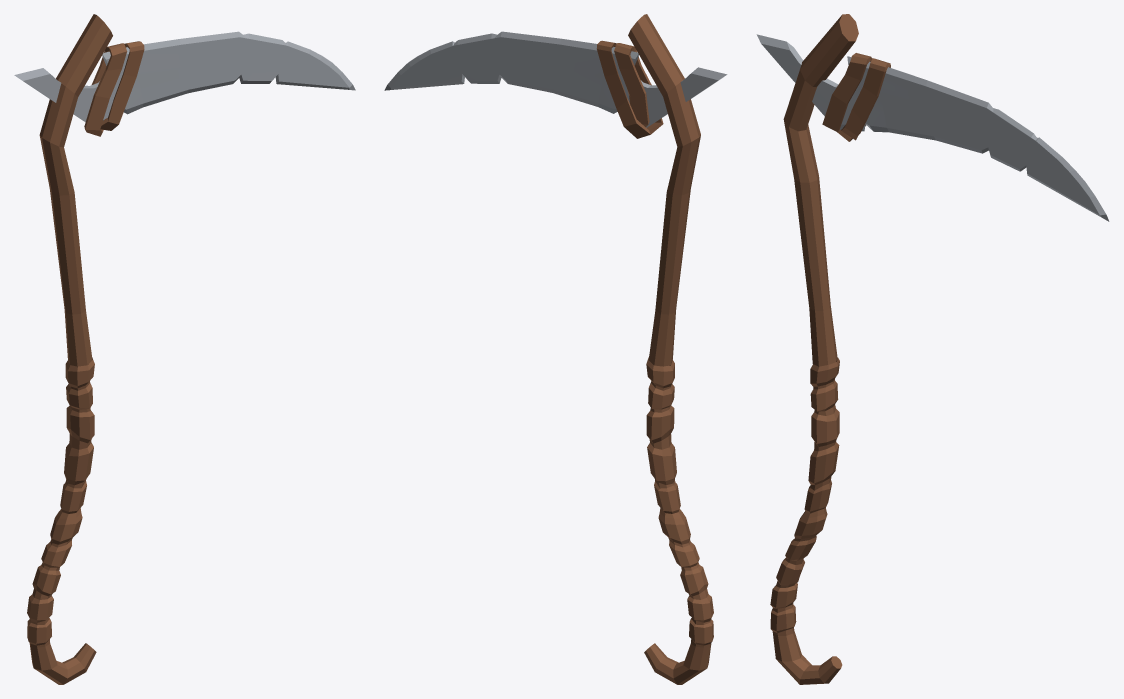
Rendered from SM_Scythe.fbx.
3 renders of one model, left to right at view 1: azimuth 30°, elevation 25°; view 2: azimuth 150°, elevation 25°; view 3: azimuth 330°, elevation 25°, orthographic. The views are drawn at different scales.
Visible parts, largest first — view 1: SM_Scythe; view 2: SM_Scythe; view 3: SM_Scythe.
Part boxes in pixels (x1,y1,x2,y2): SM_Scythe: [14, 14, 355, 684]; SM_Scythe: [384, 14, 727, 684]; SM_Scythe: [756, 14, 1109, 684].
Size of the model in its own units: 58.43 by 108 by 5.35.
